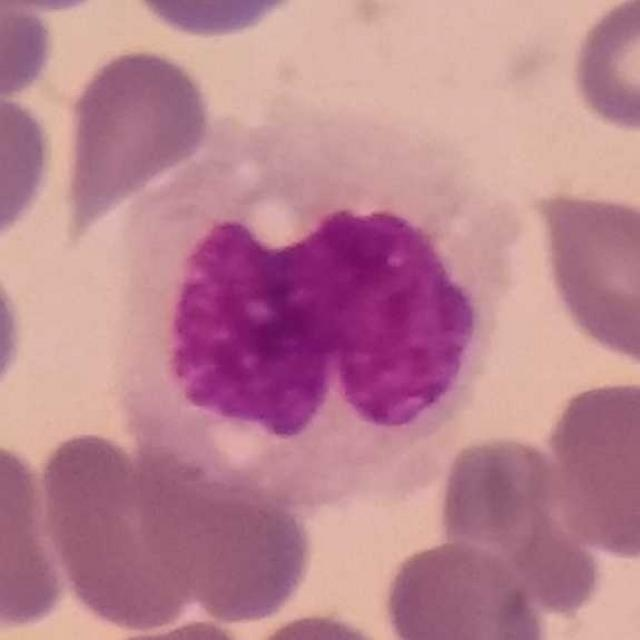Monocyte: (118, 101, 532, 518)
RBC: (32, 426, 220, 634), (58, 43, 217, 215), (146, 473, 319, 626), (527, 182, 640, 372), (542, 374, 640, 563), (378, 536, 551, 639), (431, 429, 561, 556), (0, 434, 71, 637), (565, 0, 640, 137), (0, 84, 59, 253), (120, 0, 316, 41), (0, 2, 59, 105), (237, 607, 409, 640), (0, 246, 29, 417)
